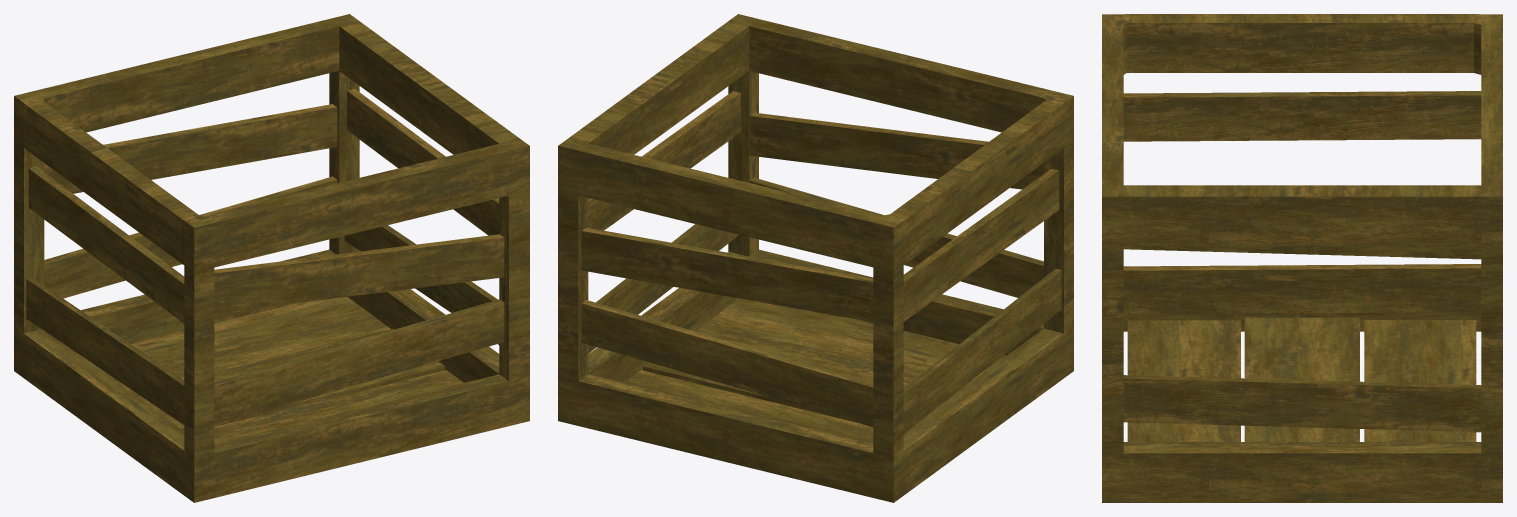
The model's file is Box_Square.fbx.
3 views of the same model, side by side, from view 1: azimuth 30°, elevation 25°; view 2: azimuth 150°, elevation 25°; view 3: azimuth 270°, elevation 25° (orthographic). The views are drawn at different scales.
Visible parts, largest first — view 1: Box_Square; view 2: Box_Square; view 3: Box_Square.
Part boxes in pixels (box(x1,y1,x2,y2)): Box_Square: box(14, 14, 529, 502); Box_Square: box(558, 14, 1073, 502); Box_Square: box(1102, 14, 1502, 502).
Size of the model in its own units: 127 by 99.76 by 118.
